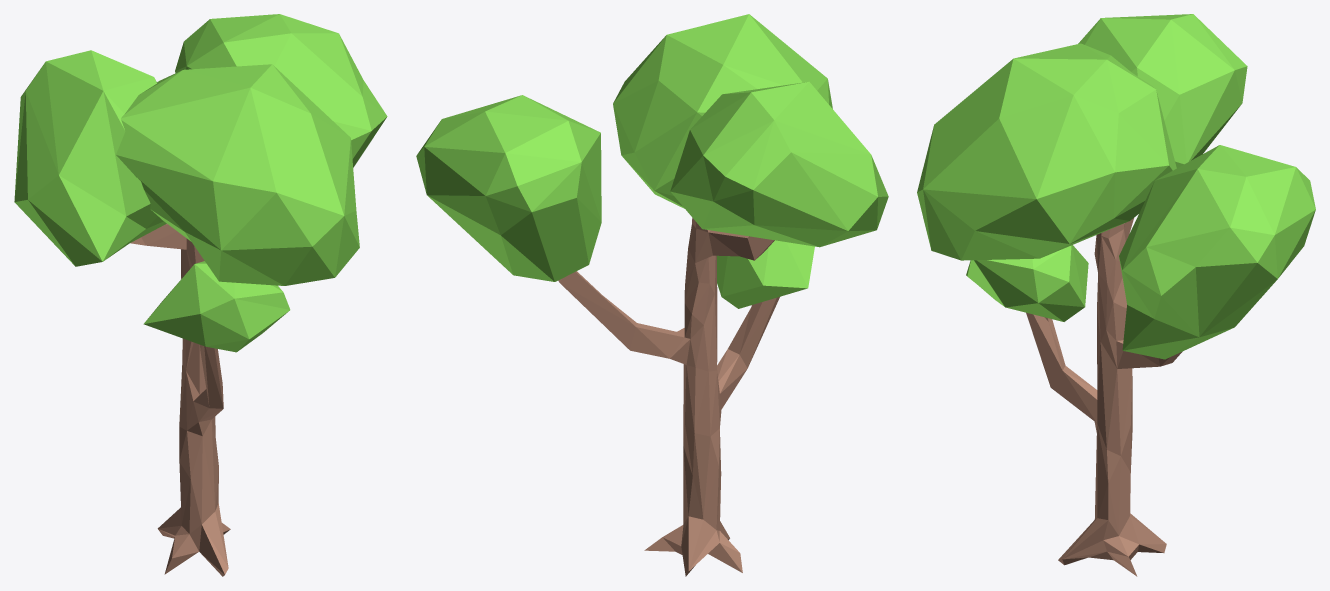
File: Ash1.fbx
3 views of the same model, side by side, from view 1: azimuth 30°, elevation 25°; view 2: azimuth 150°, elevation 25°; view 3: azimuth 270°, elevation 25° (orthographic).
Parts seen in each view (by area): view 1: Ash1; view 2: Ash1; view 3: Ash1.
Part boxes in pixels (<box>): Ash1: <box>14,14,387,576</box>; Ash1: <box>416,14,888,576</box>; Ash1: <box>917,14,1315,576</box>.
Bounding box in the file's own units: 4707 × 5957 × 4209.
